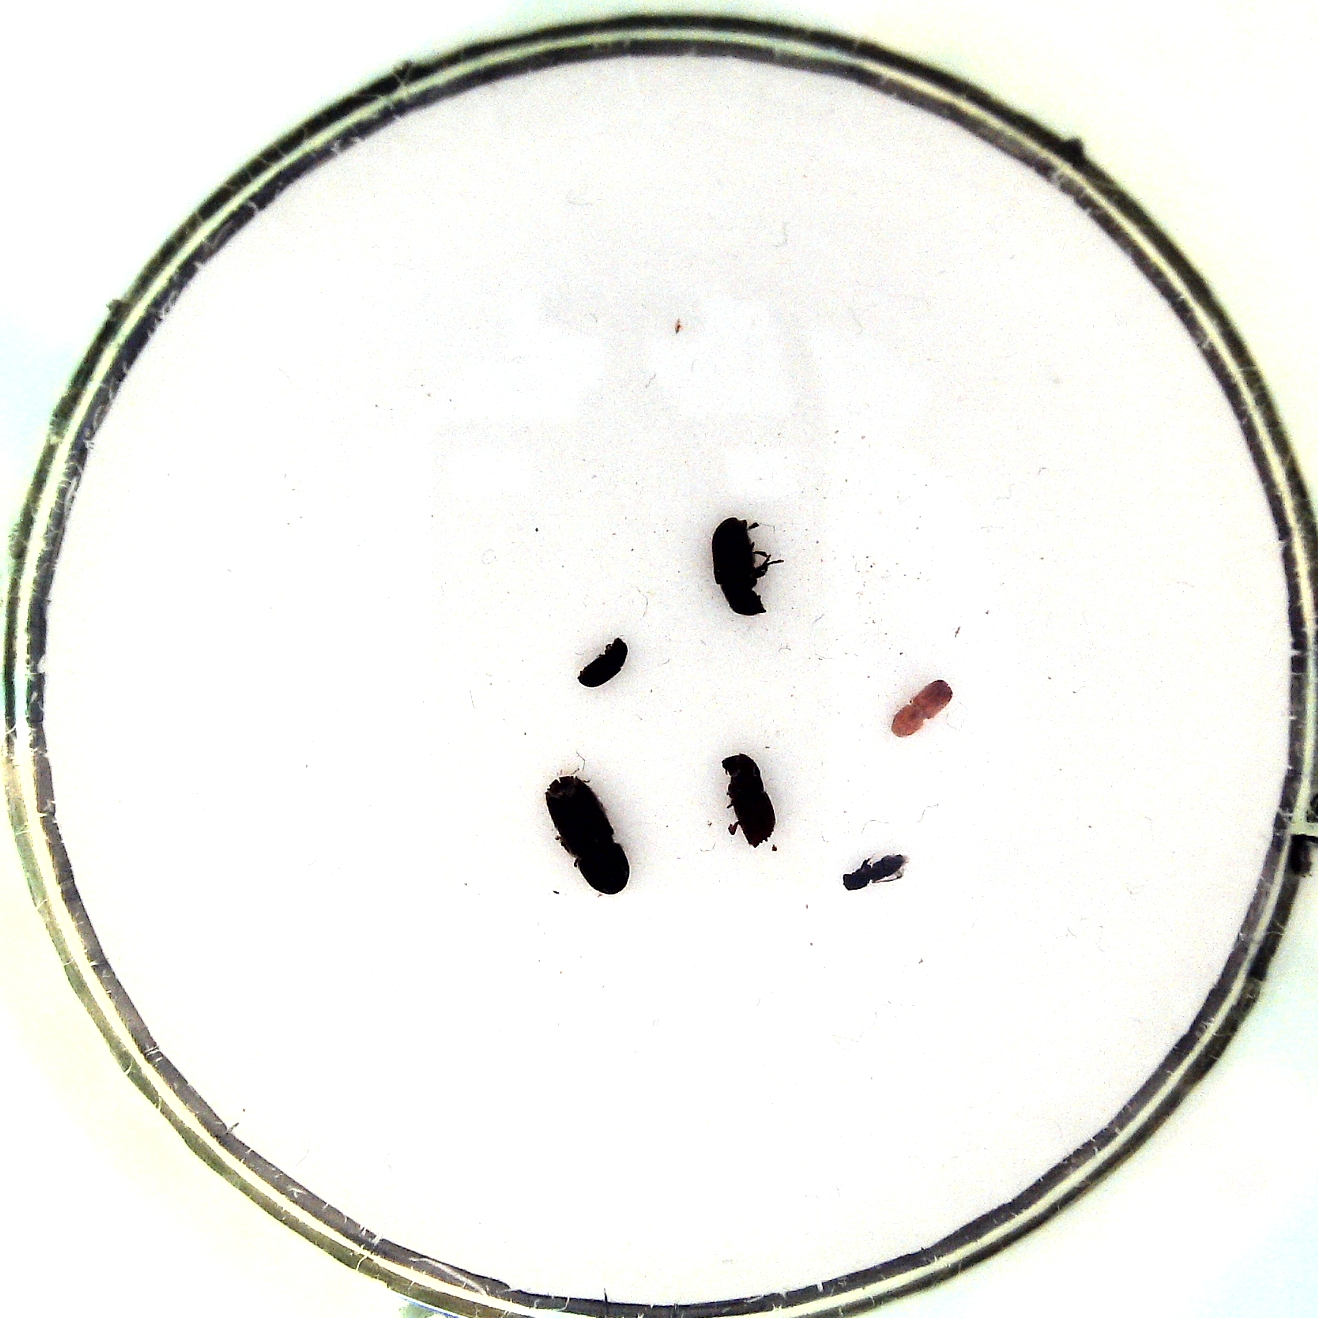Boerner: (532, 766, 632, 896)
Linnaeus: (715, 743, 782, 853)
acuminatus: (883, 672, 953, 741)
armandi: (707, 512, 787, 622)
coleoptera: (568, 632, 637, 695), (838, 848, 912, 897)
